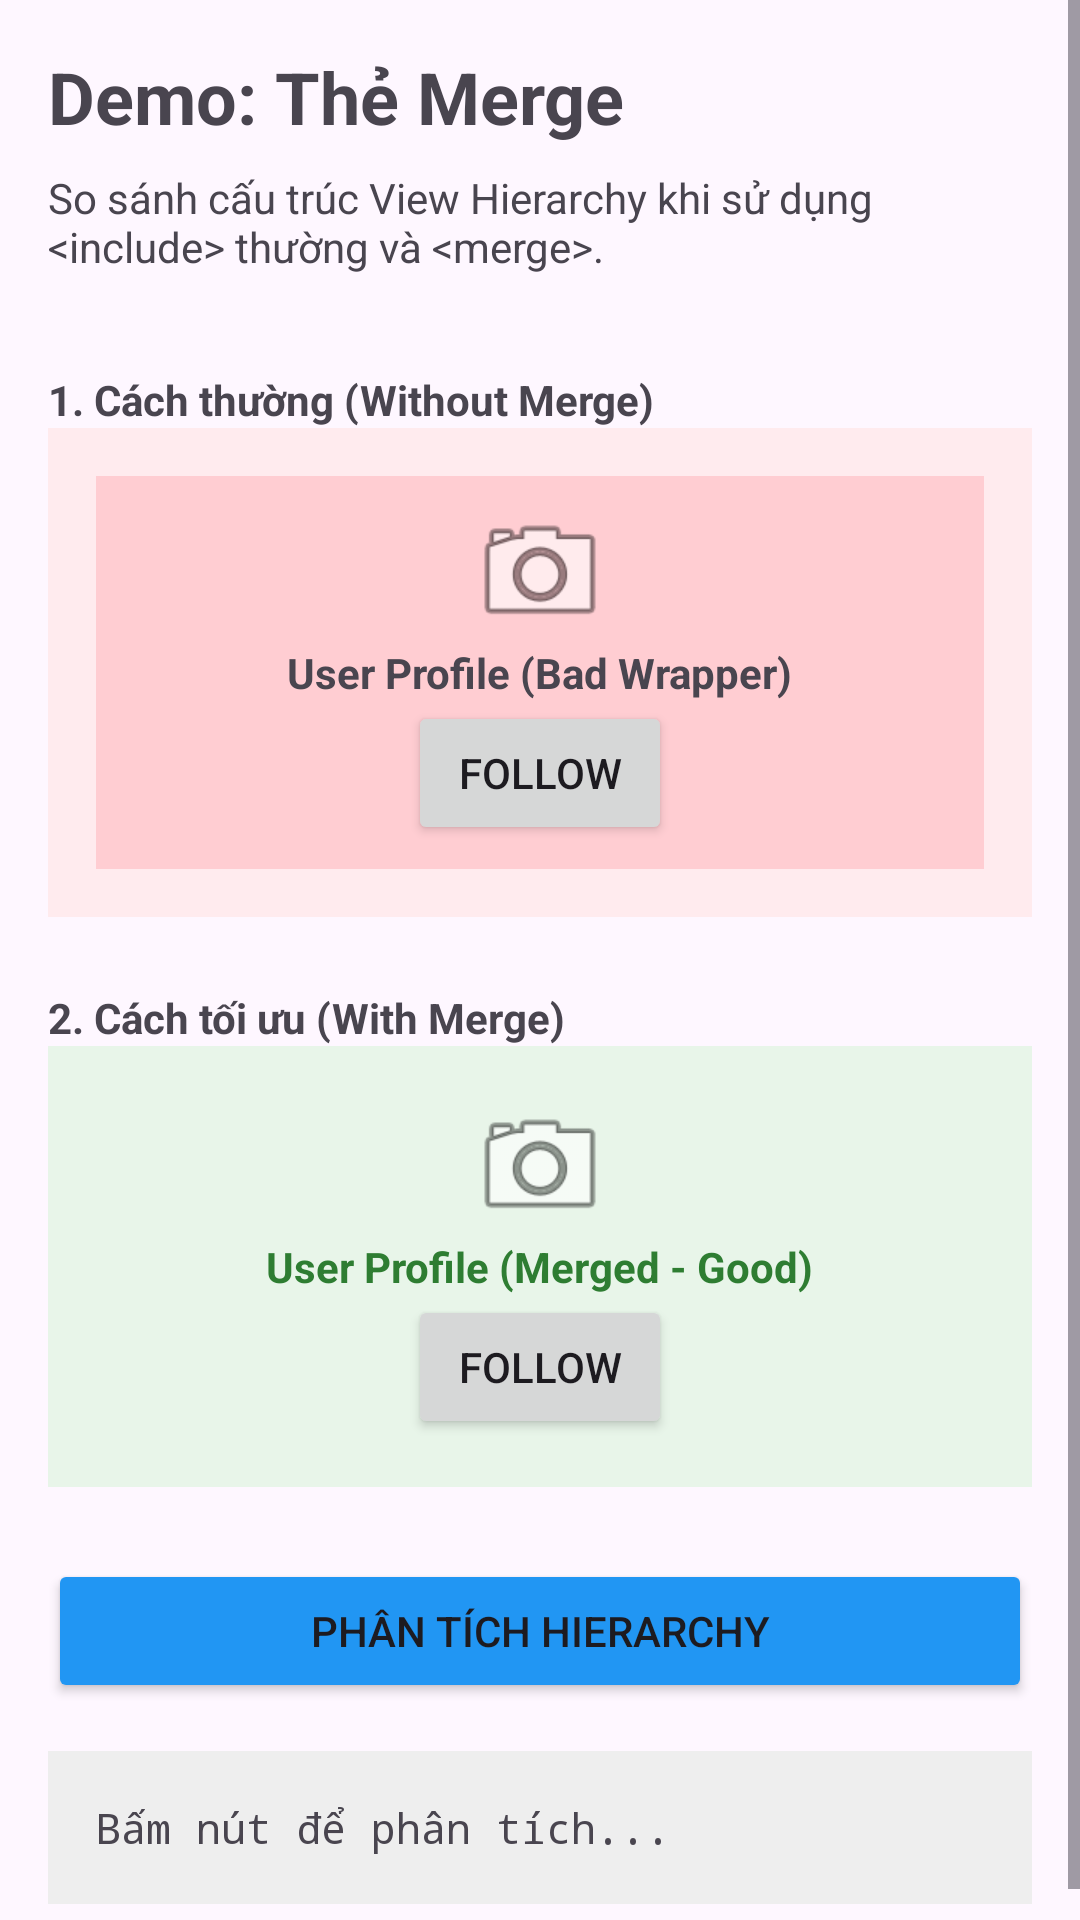

Named icons in this screenshot (1080w x 1920h) and their bounding boxes, box(x1, y1, x2, y2):
camera: box(484, 525, 596, 614), box(484, 1119, 596, 1209)
